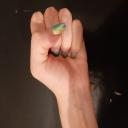Fist: (29, 8, 93, 94)
